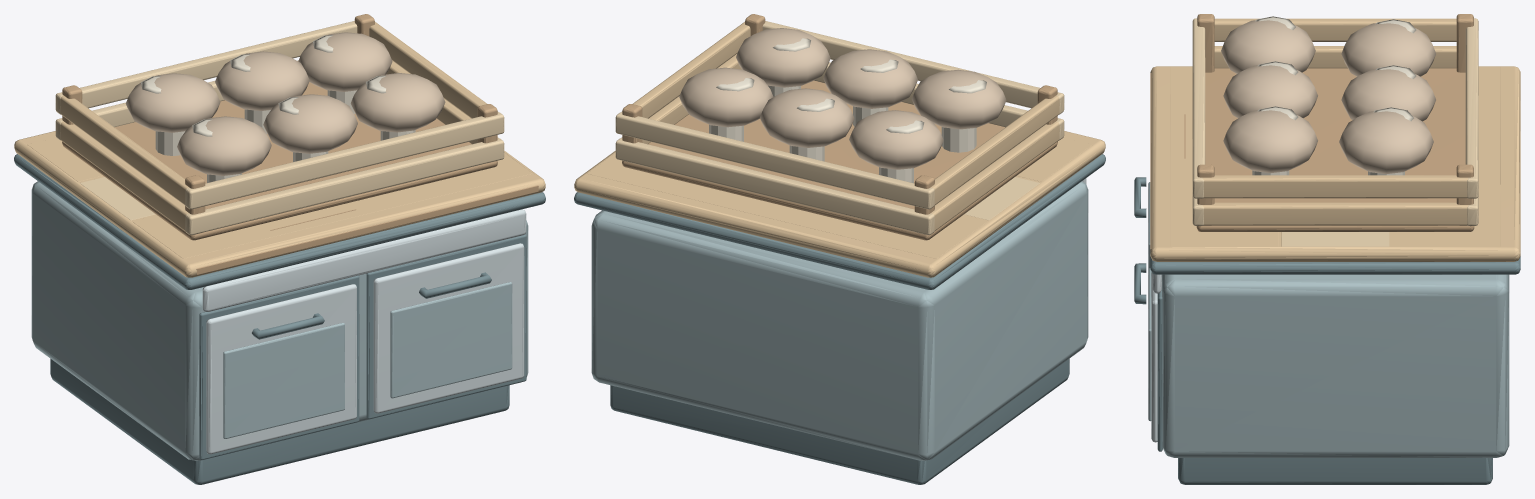
File: PantryMushroom.fbx
The picture shows the model from 3 angles, left to right: view 1: azimuth 30°, elevation 25°; view 2: azimuth 150°, elevation 25°; view 3: azimuth 270°, elevation 25°; orthographic projection. The views are drawn at different scales.
Parts seen in each view (by area): view 1: PantryMushroom; view 2: PantryMushroom; view 3: PantryMushroom.
Part boxes in pixels (x1,y1,x2,y2): PantryMushroom: [14, 14, 545, 484]; PantryMushroom: [574, 14, 1105, 484]; PantryMushroom: [1134, 14, 1520, 484].
Bounding box in the file's own units: 1.9 × 1.6 × 1.67.
